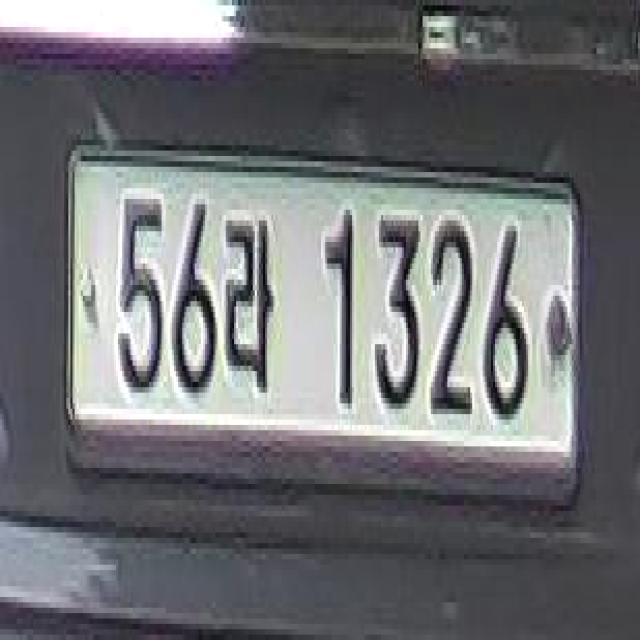illegal_plate: (71, 133, 587, 519)
